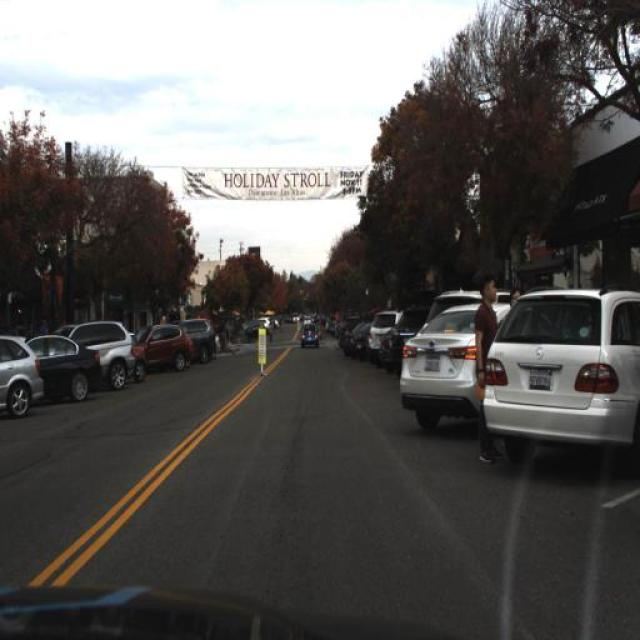car: (481, 285, 637, 470), (397, 298, 521, 433), (72, 318, 142, 388), (0, 331, 45, 419), (35, 334, 94, 400), (138, 329, 190, 377), (183, 317, 214, 361), (300, 322, 320, 346)
trafficLight: (476, 272, 496, 472)
